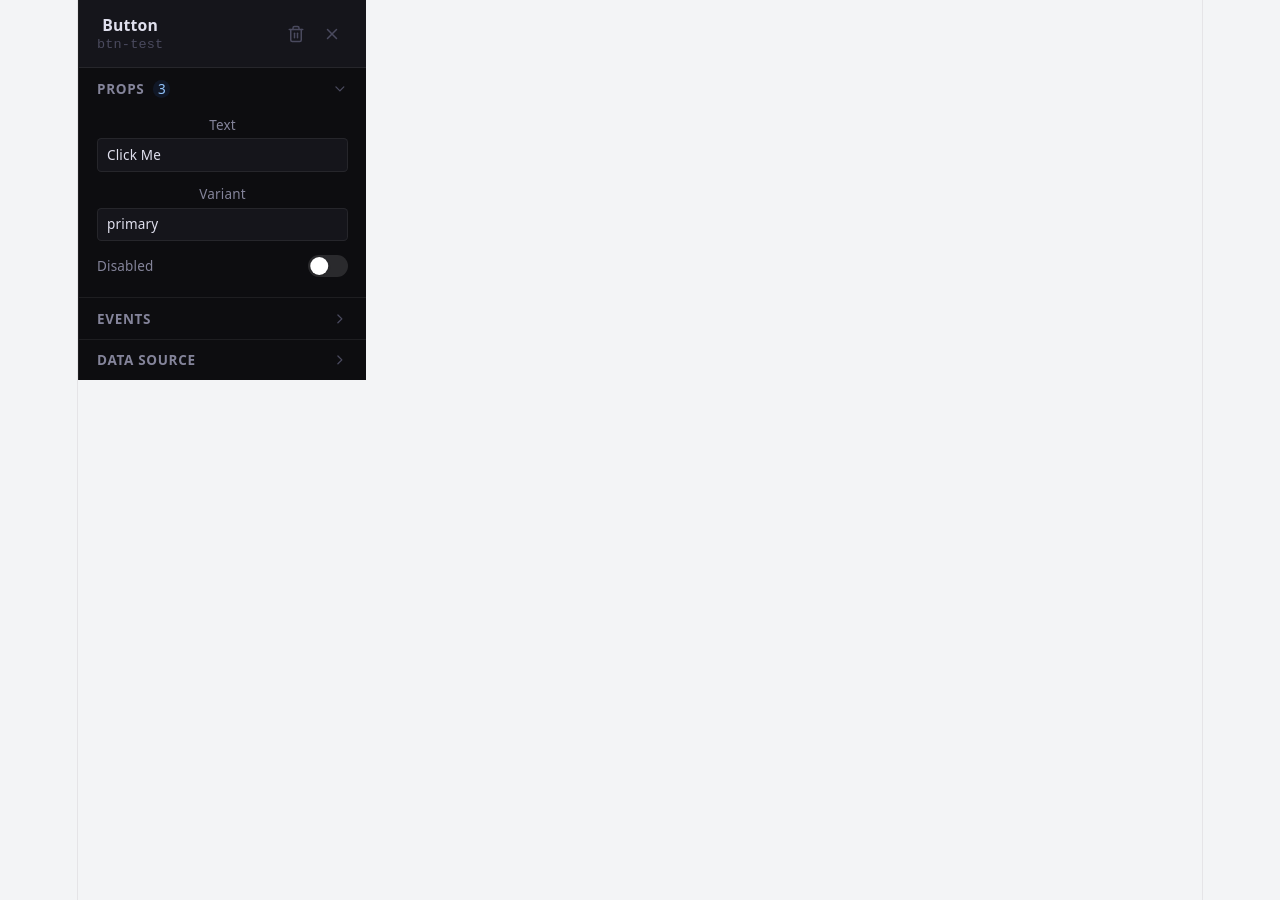
it: data source section › shows empty message when no data sources are configured
Click the button "Data source": (146, 360) [79,340,366,380]
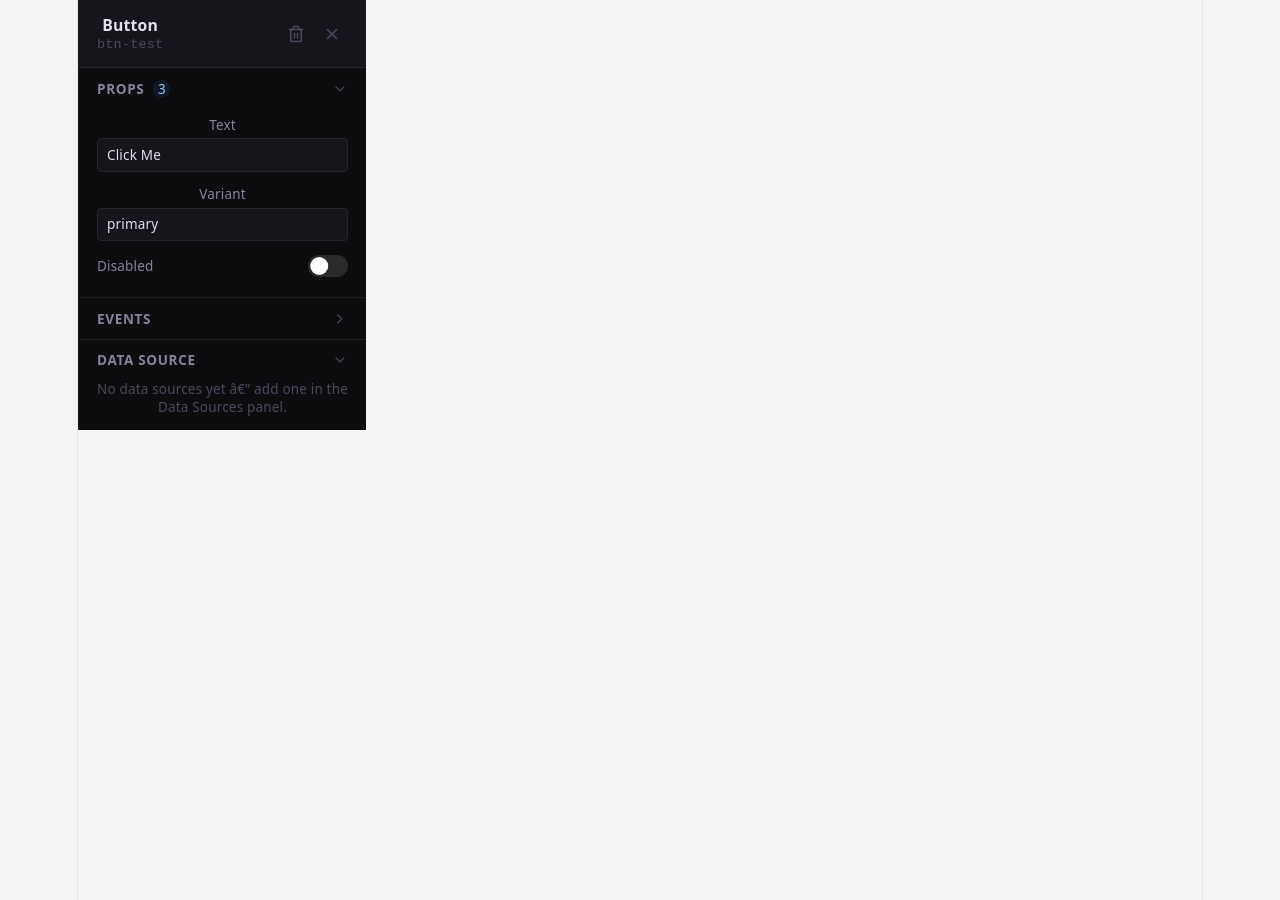
Check: the text "No data sources yet â€” add one in the Data Sources panel." is shown, box [97,380,348,416]
